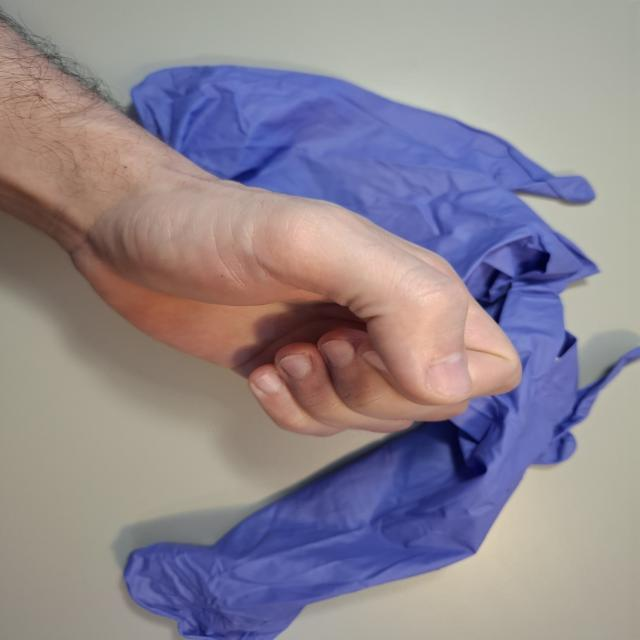glove_off: (58, 165, 526, 440)
